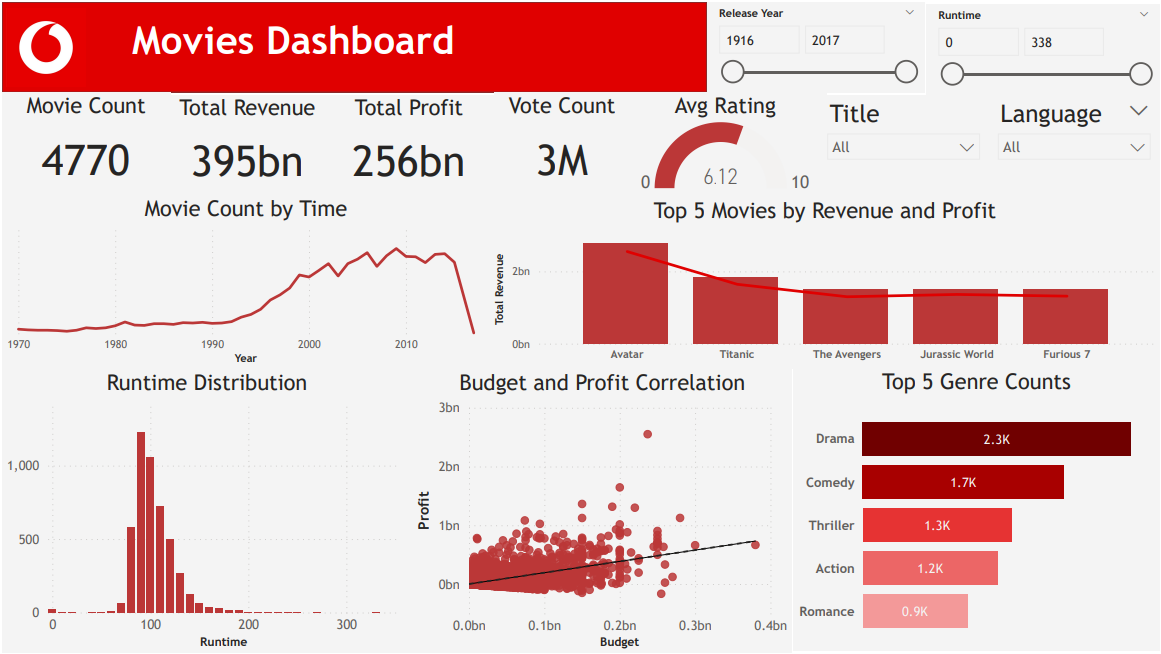

The page's visual inventory and layout, read from the dashboard file:
{"tool":"powerbi","page":{"name":"Page 1","canvas":[1280,720],"ordinal":0},"visuals":[{"type":"barChart","title":"Top 5 Genre Counts","fields":{"Category":["vois genres.name"],"Y":["CountNonNull(vois movies_updated.id)"],"Series":["vois genres.name"]},"box":[874.5,405.5,405.5,313.2],"z":0},{"type":"slicer","fields":{"Values":["vois movies_updated.release_date.Variation.Date Hierarchy.Year"]},"box":[779.6,0,241.5,100.4],"z":1000},{"type":"shape","box":[0,0,779.7,100.1],"z":2000},{"type":"textbox","box":[62.5,13.1,686.5,74.2],"z":3000},{"type":"card","title":"Movie Count","fields":{"Values":["Count(vois movies_updated.id)"]},"box":[0,100.4,186.2,116.4],"z":4000},{"type":"card","title":"Total Revenue","fields":{"Values":["vois movies_updated.Total Revenue"]},"box":[186,102,170,114],"z":5000},{"type":"lineChart","title":"Movie Count by Time","fields":{"Category":["vois movies_updated.release_date.Variation.Date Hierarchy.Year","vois movies_updated.release_date.Variation.Date Hierarchy.Quarter","vois movies_updated.release_date.Variation.Date Hierarchy.Month","vois movies_updated.release_date.Variation.Date Hierarchy.Day"],"Y":["Count(vois movies_updated.id)"]},"box":[0,213.8,539.6,192],"z":6000},{"type":"card","title":"Total Profit","fields":{"Values":["vois genres.total profit"]},"box":[364,102,180,114],"z":7000},{"type":"scatterChart","title":"Budget and Profit Correlation","fields":{"Category":["vois movies_updated.id"],"Y":["vois genres.total profit"],"X":["_measures.budget_distinct"]},"box":[453.8,405.8,420.4,314.2],"z":8000},{"type":"lineClusteredColumnComboChart","title":"Top 5 Movies by Revenue and Profit","fields":{"Category":["vois movies_updated.title"],"Y":["vois movies_updated.Total Revenue"],"Y2":["vois genres.total profit"]},"box":[544,216.7,736,189.1],"z":9000},{"type":"slicer","fields":{"Values":["vois movies_updated.runtime"]},"box":[1022,2,258,108],"z":10000},{"type":"gauge","title":"Avg Rating","fields":{"Y":["vois movies_updated.vote_avg_distinct"],"MaxValue":["_measures.max_rating"],"MinValue":["_measures.min_rating"]},"box":[688,100.4,224,113.5],"z":11000},{"type":"clusteredColumnChart","title":"Runtime Distribution","fields":{"Category":["vois movies_updated.runtime (bins)"],"Y":["Count(vois movies_updated.id)"]},"box":[0,405.8,453.8,314.2],"z":12000},{"type":"card","title":"Vote Count","fields":{"Values":["_measures.vote_count_distinct"]},"box":[544,100.4,151.3,116.4],"z":13000},{"type":"slicer","fields":{"Values":["vois movies_updated.original_language"]},"box":[1091.2,101.9,188.8,113.3],"z":14000},{"type":"slicer","fields":{"Values":["vois movies_updated.title"]},"box":[902.4,101.9,188.8,111.4],"z":15000}]}

Visuals, with their boxes in screenshot pixels (x1, y1, x2, y2), scaled from the page's 1280x720 canvas onto the 1161x654 screenshot:
"Top 5 Genre Counts" barChart: bbox=(793, 368, 1160, 653)
slicer - vois movies_updated.release_date.Variation.Date Hierarchy.Year: bbox=(707, 0, 926, 91)
shape: bbox=(0, 0, 707, 91)
textbox: bbox=(57, 12, 679, 79)
"Movie Count" card: bbox=(0, 91, 169, 197)
"Total Revenue" card: bbox=(169, 93, 323, 196)
"Movie Count by Time" lineChart: bbox=(0, 194, 489, 369)
"Total Profit" card: bbox=(330, 93, 493, 196)
"Budget and Profit Correlation" scatterChart: bbox=(412, 369, 793, 653)
"Top 5 Movies by Revenue and Profit" lineClusteredColumnComboChart: bbox=(493, 197, 1160, 369)
slicer - vois movies_updated.runtime: bbox=(927, 2, 1160, 100)
"Avg Rating" gauge: bbox=(624, 91, 827, 194)
"Runtime Distribution" clusteredColumnChart: bbox=(0, 369, 412, 653)
"Vote Count" card: bbox=(493, 91, 631, 197)
slicer - vois movies_updated.original_language: bbox=(990, 93, 1160, 195)
slicer - vois movies_updated.title: bbox=(819, 93, 990, 194)
